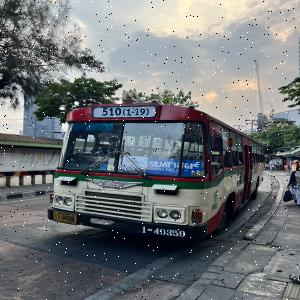BMTA-bus: (47, 102, 265, 242)
Bus Line Number: (92, 106, 156, 119)
Bus Side Number: (137, 224, 190, 238)
Destination Sign: (138, 157, 204, 178)
